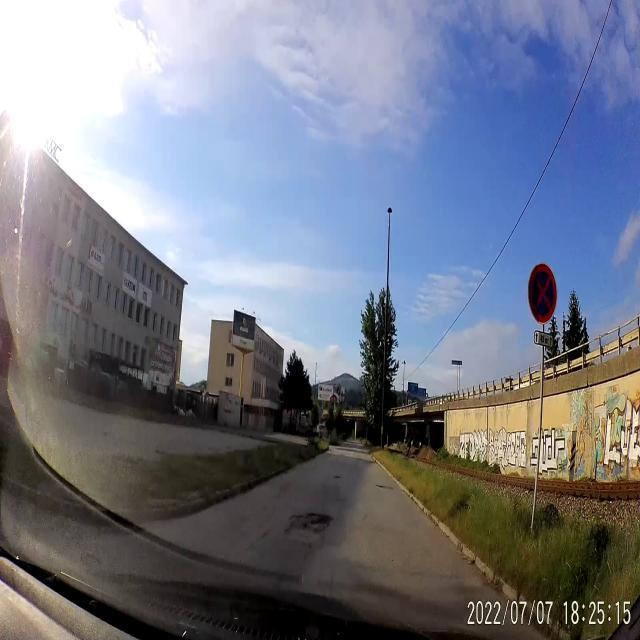Pothole: (283, 504, 334, 545), (374, 480, 394, 495), (332, 471, 342, 483)
